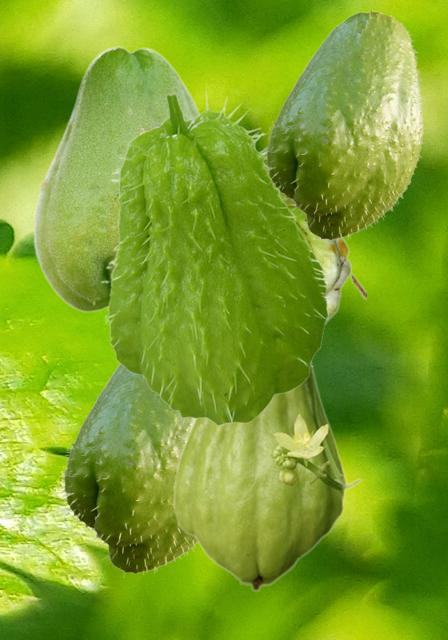sayote: (100, 88, 334, 425), (32, 45, 199, 311), (172, 362, 362, 591), (261, 10, 424, 242), (58, 364, 196, 576), (281, 194, 365, 325)
